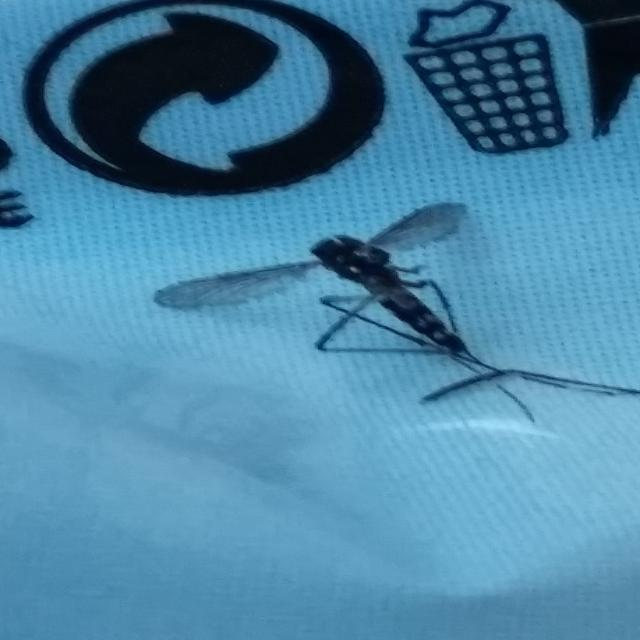albopictus: (166, 193, 635, 426)
